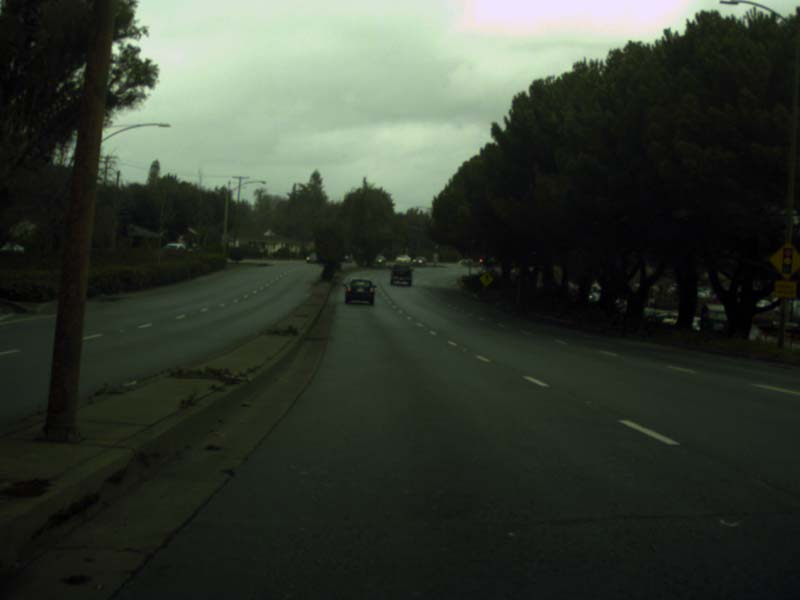Green: (434, 244, 438, 252)
Red: (478, 255, 483, 265)
